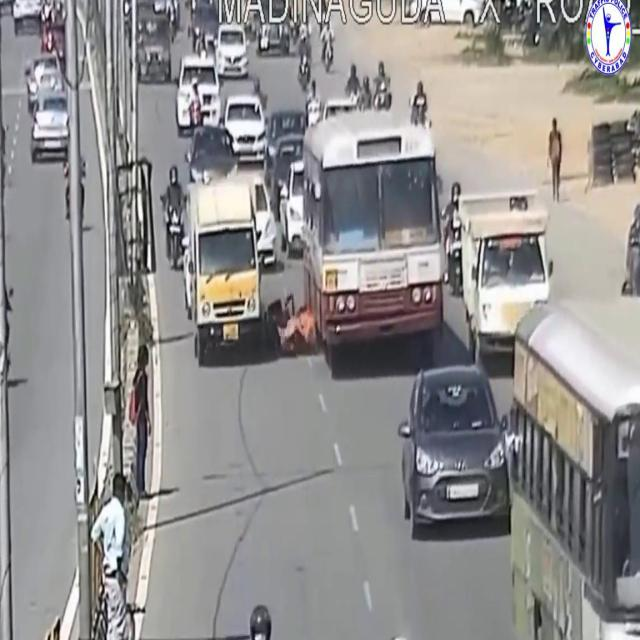accident: (182, 110, 446, 382)
non_accident: (391, 174, 640, 640), (133, 0, 268, 161), (0, 0, 71, 174)
